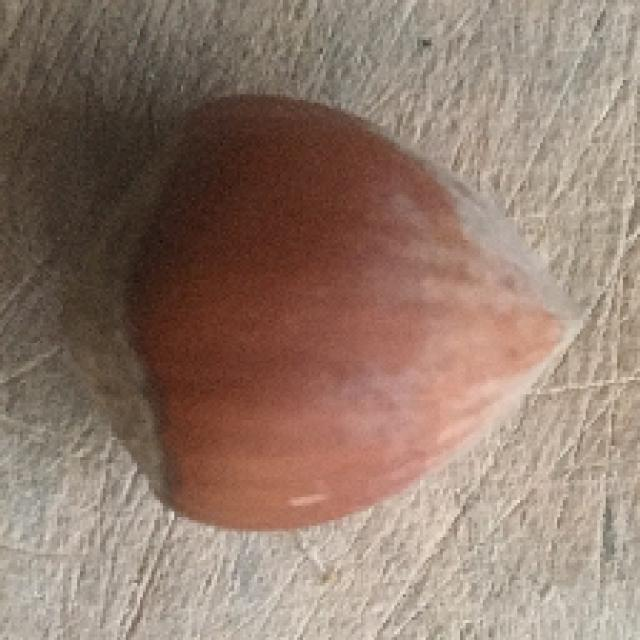QualityHazelnut: (66, 97, 594, 528)
